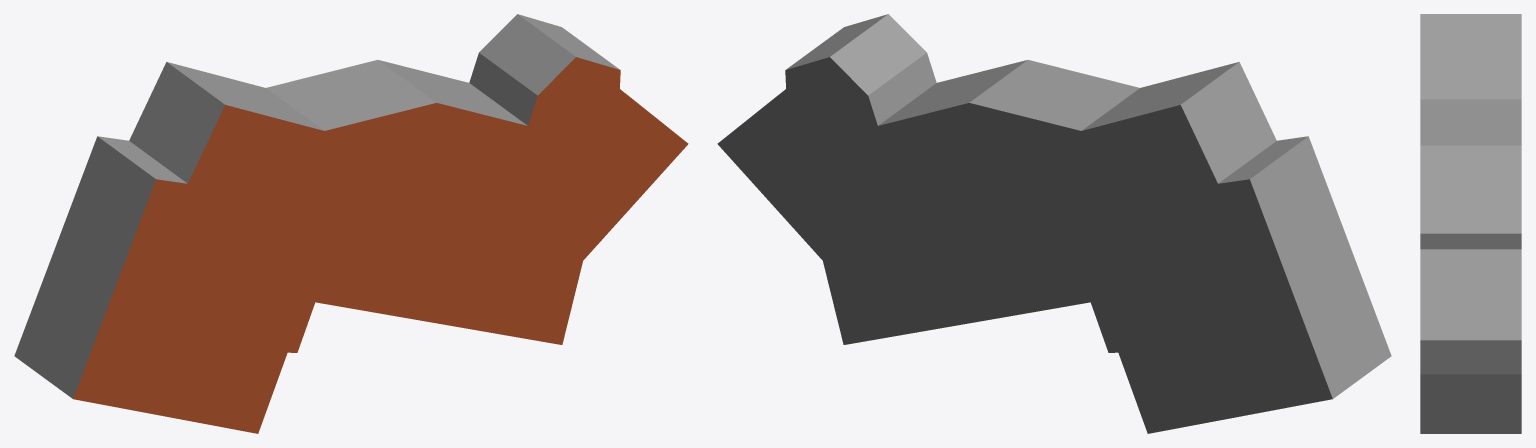
The model's file is construction_4549_assumed_A_Casa_h6m.obj.
3 renders of one model, left to right at view 1: azimuth 30°, elevation 25°; view 2: azimuth 150°, elevation 25°; view 3: azimuth 270°, elevation 25°, orthographic. The views are drawn at different scales.
Visible parts, largest first — view 1: construction_4549_assumed_A_Casa; view 2: construction_4549_assumed_A_Casa; view 3: construction_4549_assumed_A_Casa.
Part boxes in pixels (x1=…): construction_4549_assumed_A_Casa: x1=14, y1=14, x2=688, y2=433; construction_4549_assumed_A_Casa: x1=717, y1=14, x2=1391, y2=433; construction_4549_assumed_A_Casa: x1=1420, y1=14, x2=1521, y2=433.
Size of the model in its own units: 36.26 by 18.98 by 6.
